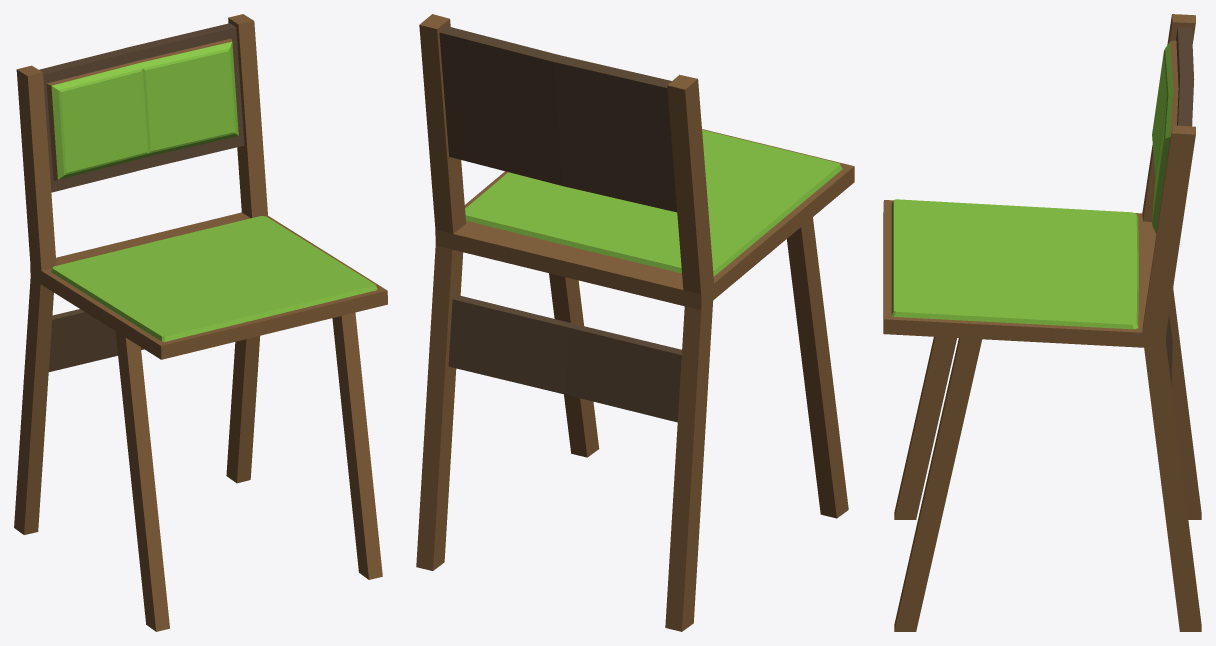
Rendered from chair_4.fbx.
3 views of the same model, side by side, from view 1: azimuth 30°, elevation 25°; view 2: azimuth 150°, elevation 25°; view 3: azimuth 270°, elevation 25° (orthographic). The views are drawn at different scales.
Parts seen in each view (by area): view 1: chair_4; view 2: chair_4; view 3: chair_4.
Boxes of the visible parts, x1,y1,x2,y2 form: chair_4: (14,14,387,631); chair_4: (416,14,854,631); chair_4: (883,14,1201,631).
Bounding box in the file's own units: 45.93 × 89.39 × 51.7.
